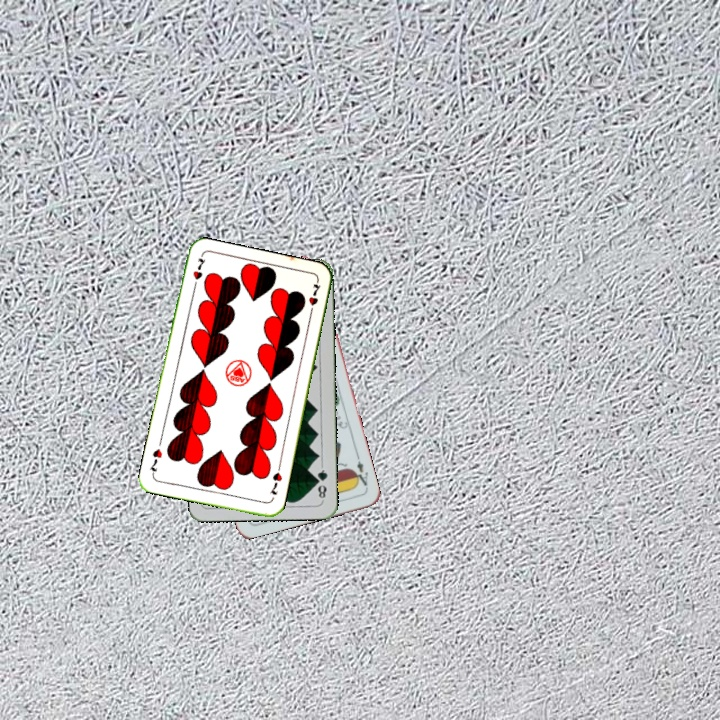EA: (349, 452, 371, 491)
G8: (312, 462, 330, 503)
H7: (189, 254, 208, 293), (265, 468, 285, 497)
